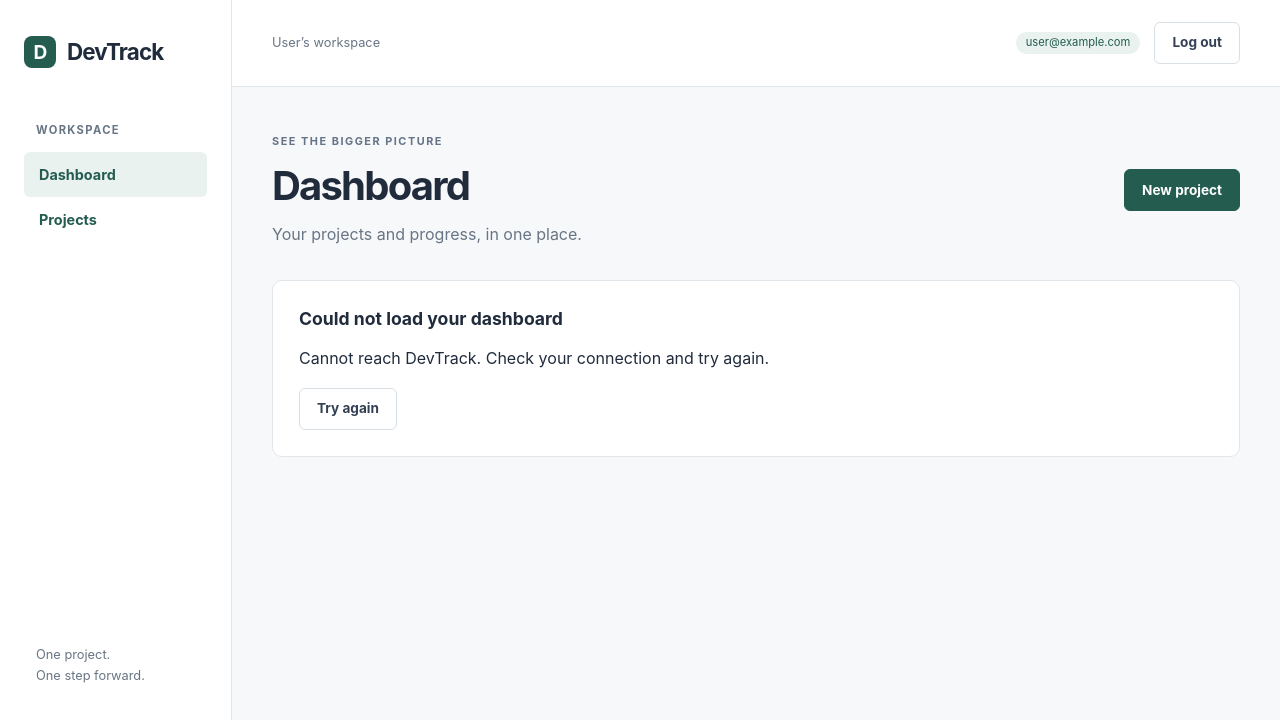
handles failure and recovers using the retry action
The image size is (1280, 720).
Expected: the message shows "Could not load your dashboard", [299, 308, 563, 329]
Click the button "Try again" at [348, 409], box [299, 388, 397, 430]
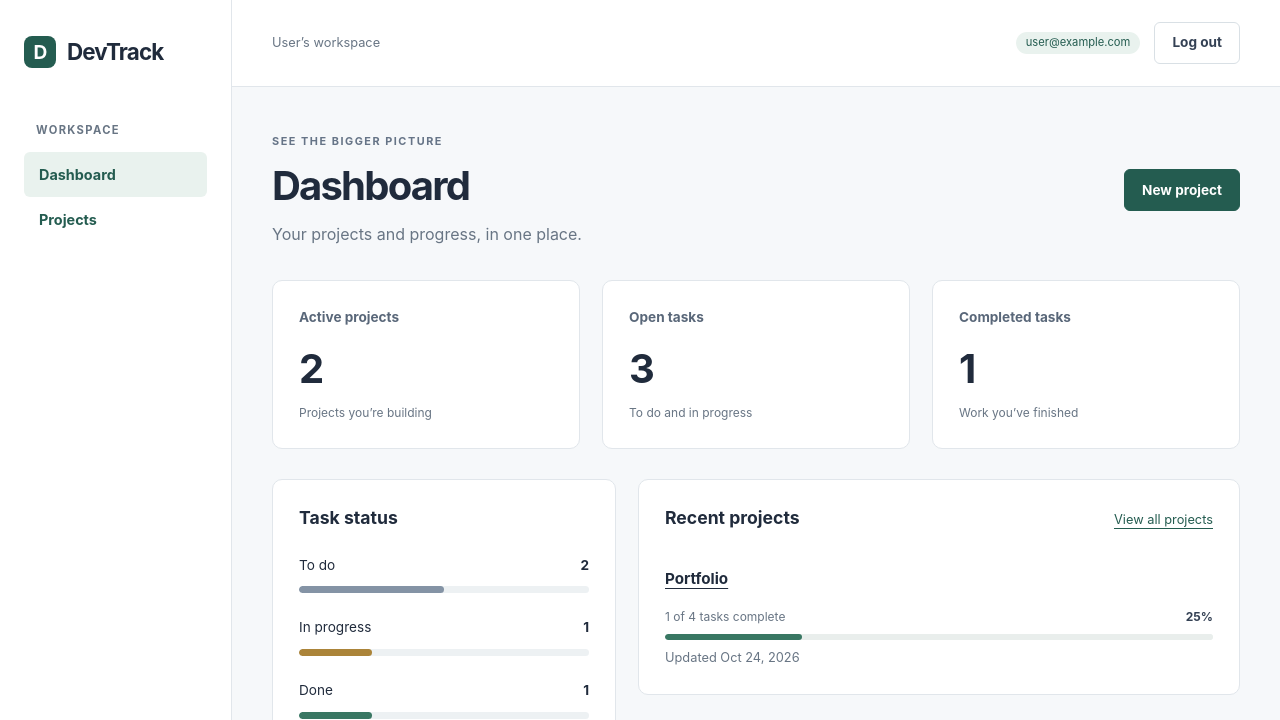
Expected: the element named "Dashboard metrics" is shown, [272, 280, 1240, 449]
